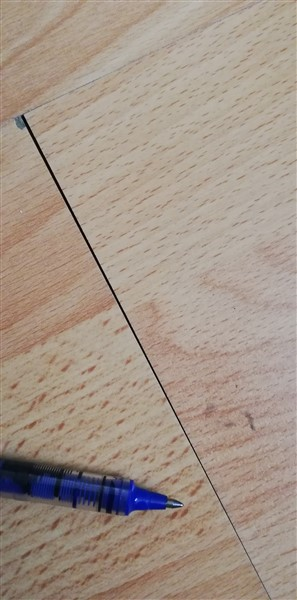pilot kalem: (1, 447, 191, 521)
